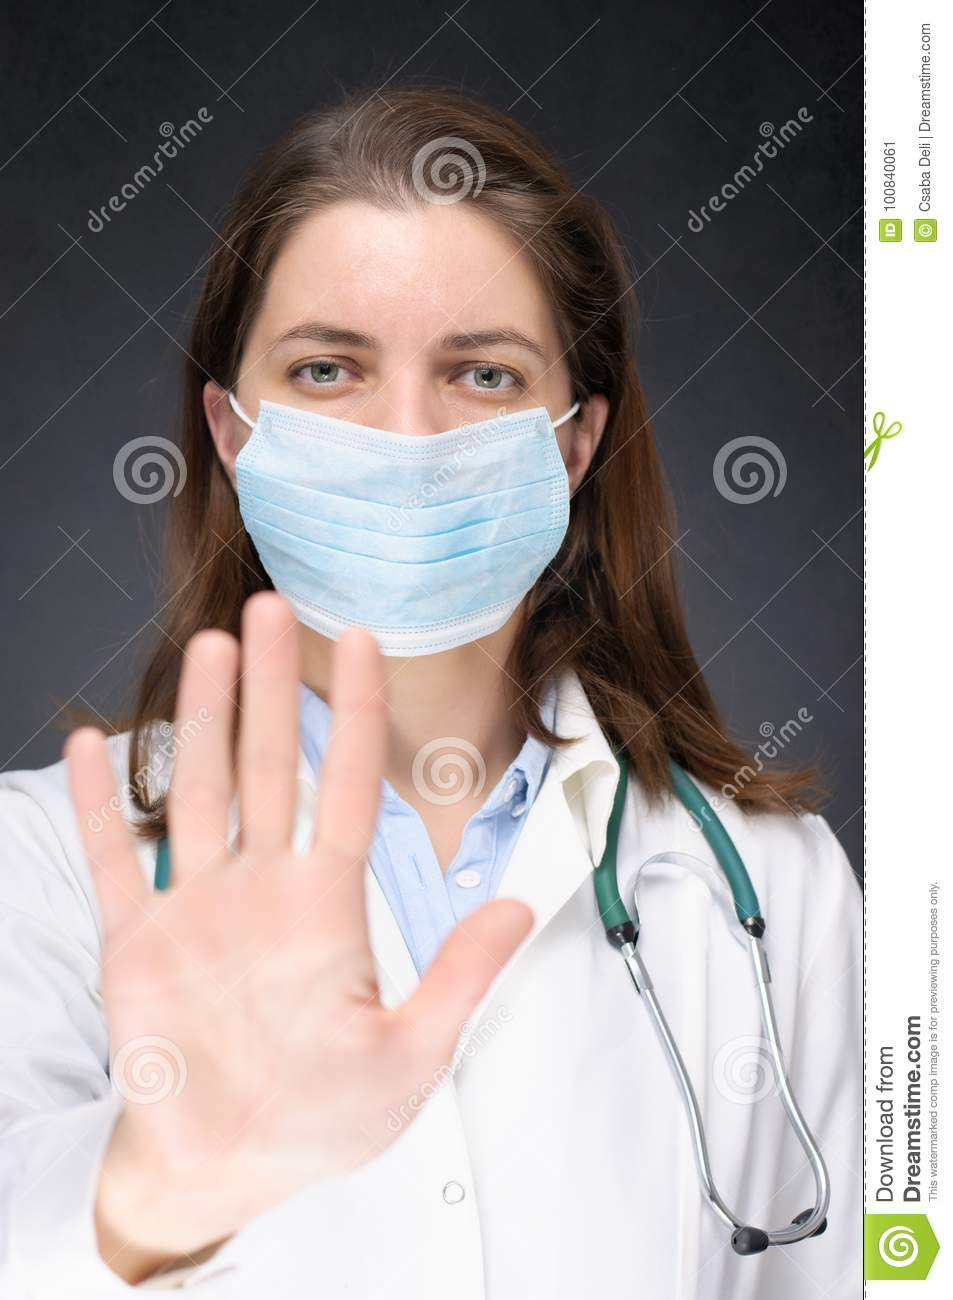mask: (228, 403, 570, 665)
